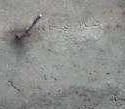Exposed reinforcement: (24, 13, 43, 34)
